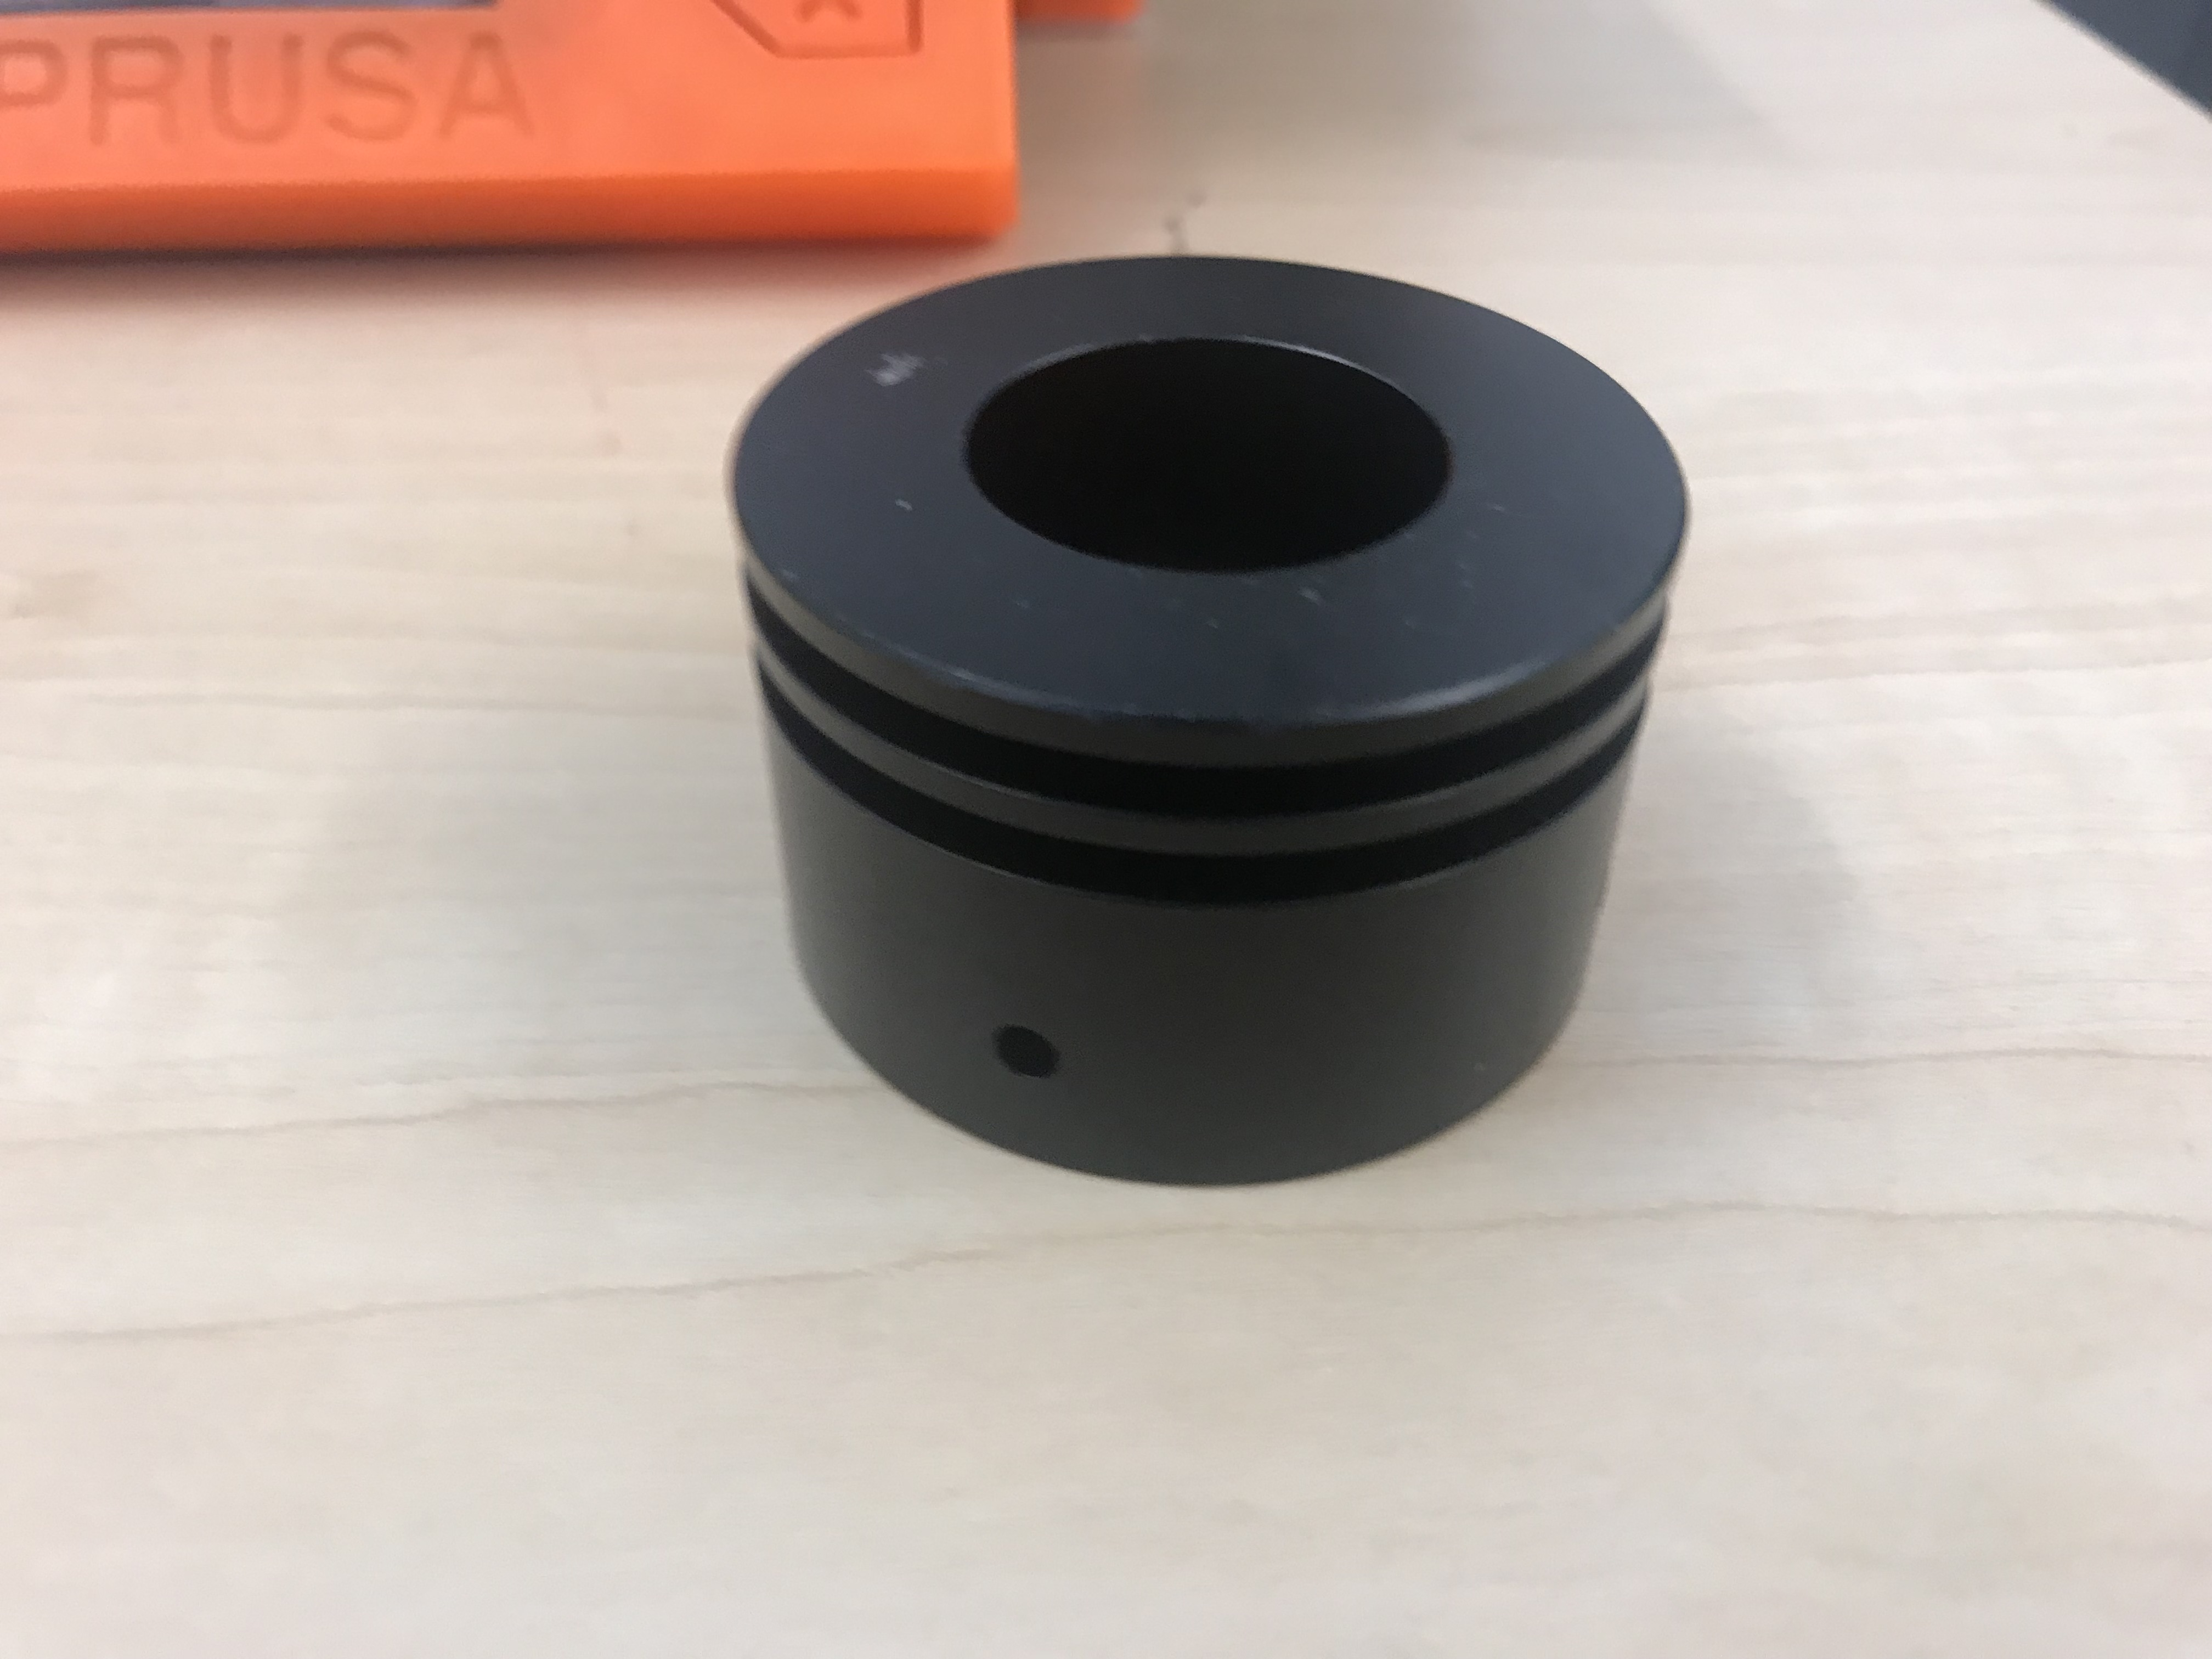pillar1: (714, 234, 1707, 1213)
